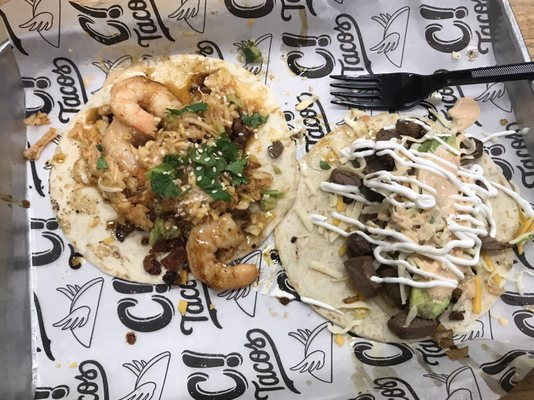sandwich: (46, 53, 300, 292)
